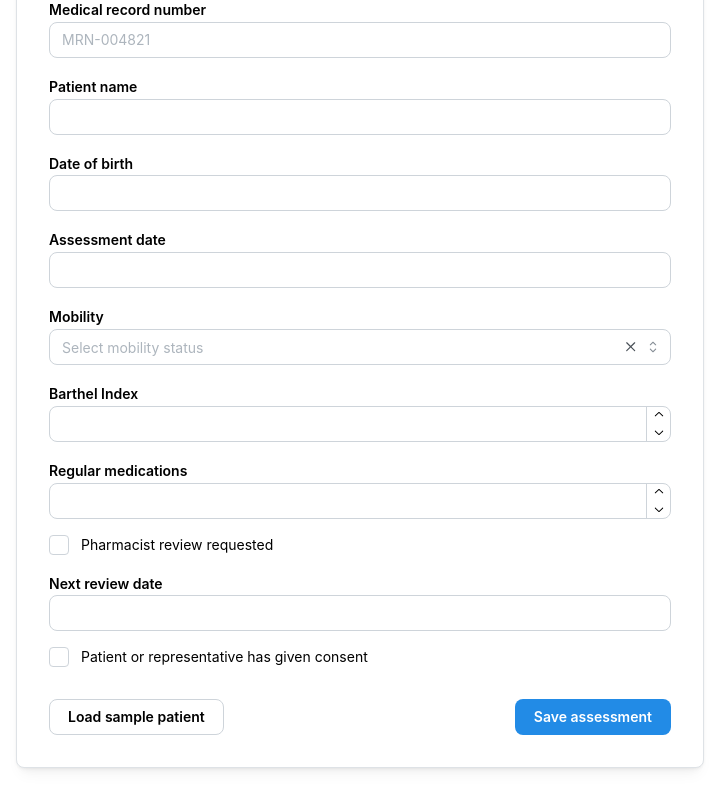
Test: AssessmentForm › loads sample patient, submits, and calls save handler with parsed values
This screenshot has width=721, height=788.
(page scrolled)
Click "Load sample patient"
Click the button "Load sample patient".
click(136, 718)  # box x1=49 y1=700 x2=224 y2=736
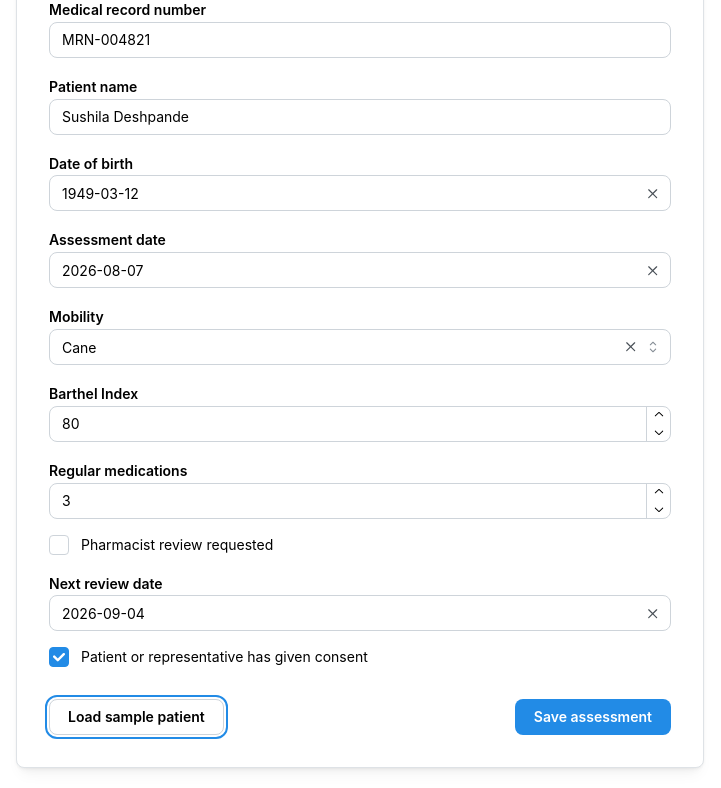
expect the field labelled "Medical record number" holds "MRN-004821": met, box x1=49 y1=22 x2=671 y2=58
expect the field labelled "Patient name" holds "Sushila Deshpande": met, box x1=49 y1=99 x2=671 y2=135
Click "Save assessment"
Click the button "Save assessment".
click(593, 718)  # box x1=515 y1=700 x2=671 y2=736
(page scrolled)
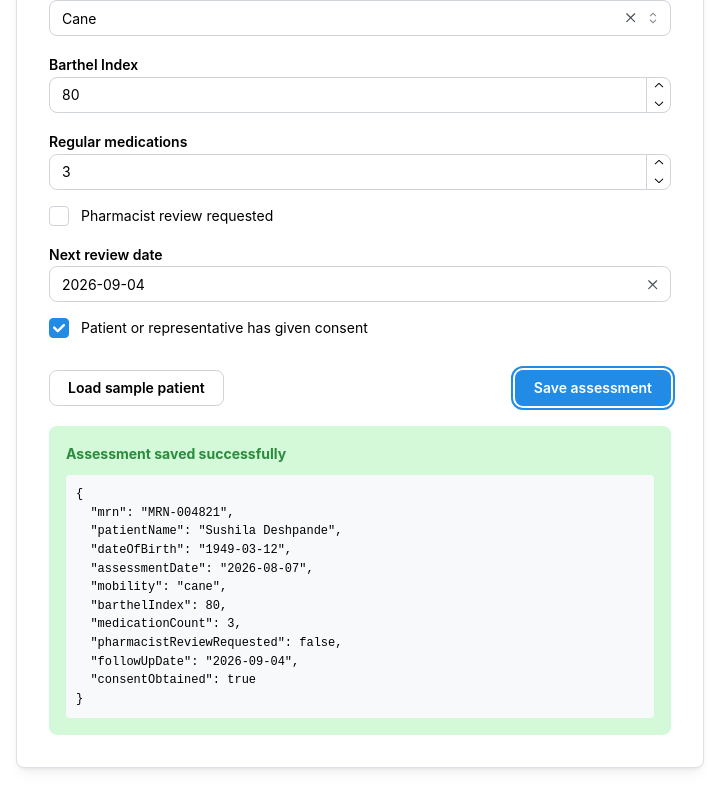
expect the message with test id "success-alert" is shown: met, box x1=49 y1=426 x2=671 y2=735
